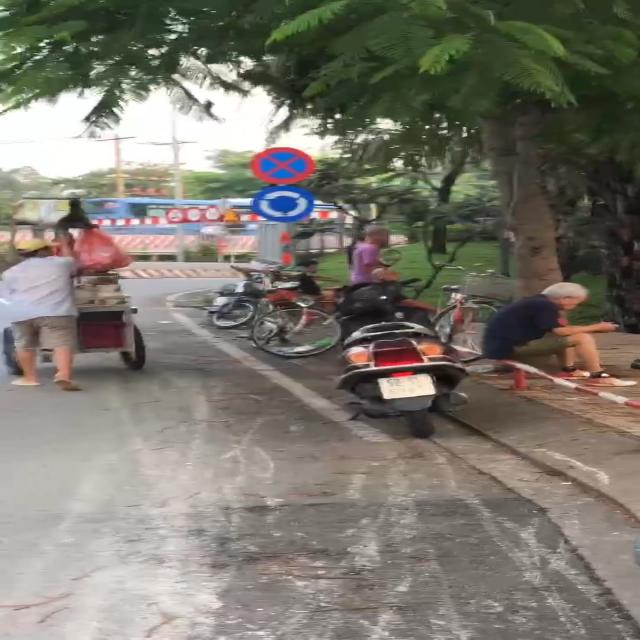Bien bao cam dung xe va do xe: (247, 145, 319, 185)
Bien bao noi giao nhau chay theo vong xuyen: (247, 185, 328, 227)
